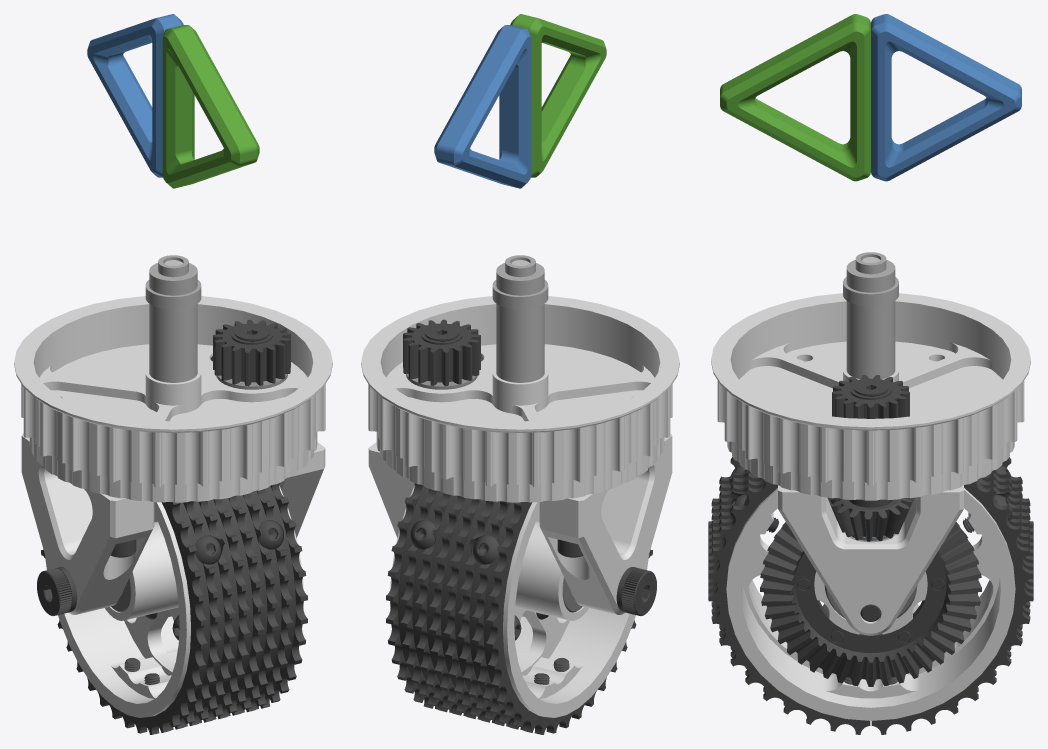
File: Robot_Swerve_0.glb
3 views of the same model, side by side, from view 1: azimuth 30°, elevation 25°; view 2: azimuth 150°, elevation 25°; view 3: azimuth 270°, elevation 25° (orthographic).
Visible parts, largest first — view 1: MK3 Base Pulley Tall, Tread, Blue Nitrile 4in X 1.5in, Wheel, SDS, Nitrile Tread, 4in X 1.5in, Bearing Bore, Wheel Mount A, Green, Blue, MK3 Center Column, Gear, 17T, 20DP, .375Hex, Wheel Mount B Gen2, Screw, Shoulder, .375 X 2.5, 5_16-18, 91259A634_91259A634, Screw, 10-32 X .5, Button, 97763A232_97763A232 (×2); view 2: MK3 Base Pulley Tall, Tread, Blue Nitrile 4in X 1.5in, Wheel, SDS, Nitrile Tread, 4in X 1.5in, Bearing Bore, Wheel Mount A, Blue, Green, MK3 Center Column, Gear, 17T, 20DP, .375Hex, Wheel Mount B Gen2, Screw, Shoulder, .375 X 2.5, 5_16-18, 91259A634_91259A634, Screw, 10-32 X .5, Button, 97763A232_97763A232 (×2); view 3: MK3 Base Pulley Tall, Wheel, SDS, Nitrile Tread, 4in X 1.5in, Bearing Bore, Bevel Gear, 4515, Tread, Blue Nitrile 4in X 1.5in, Wheel Mount B Gen2, Green, Blue, MK3 Center Column, Bevel Gear, 1545, Gear, 17T, 20DP, .375Hex.
Boxes of the visible parts, x1,y1,x2,y2 form: MK3 Base Pulley Tall: (14, 296, 332, 502); Tread, Blue Nitrile 4in X 1.5in: (41, 483, 307, 734); Wheel, SDS, Nitrile Tread, 4in X 1.5in, Bearing Bore: (45, 486, 303, 717); Wheel Mount A: (21, 433, 154, 614); Green: (162, 25, 259, 188); Blue: (87, 14, 183, 177); MK3 Center Column: (145, 255, 201, 382); Gear, 17T, 20DP, .375Hex: (213, 319, 290, 386); Wheel Mount B Gen2: (279, 442, 325, 538); Screw, Shoulder, .375 X 2.5, 5_16-18, 91259A634_91259A634: (37, 567, 77, 615); Screw, 10-32 X .5, Button, 97763A232_97763A232 (×2): (195, 520, 283, 564); MK3 Base Pulley Tall: (361, 296, 679, 502); Tread, Blue Nitrile 4in X 1.5in: (386, 483, 652, 734); Wheel, SDS, Nitrile Tread, 4in X 1.5in, Bearing Bore: (390, 486, 648, 717); Wheel Mount A: (539, 433, 672, 614); Blue: (434, 25, 531, 188); Green: (510, 14, 606, 177); MK3 Center Column: (492, 255, 548, 382); Gear, 17T, 20DP, .375Hex: (403, 319, 480, 386); Wheel Mount B Gen2: (368, 442, 414, 538); Screw, Shoulder, .375 X 2.5, 5_16-18, 91259A634_91259A634: (616, 567, 656, 615); Screw, 10-32 X .5, Button, 97763A232_97763A232 (×2): (410, 520, 498, 564); MK3 Base Pulley Tall: (711, 293, 1030, 500); Wheel, SDS, Nitrile Tread, 4in X 1.5in, Bearing Bore: (726, 488, 1015, 720); Bevel Gear, 4515: (760, 497, 981, 686); Tread, Blue Nitrile 4in X 1.5in: (708, 457, 1033, 734); Wheel Mount B Gen2: (778, 485, 963, 635); Green: (720, 14, 870, 181); Blue: (871, 14, 1021, 181); MK3 Center Column: (843, 252, 898, 379); Bevel Gear, 1545: (830, 498, 911, 541); Gear, 17T, 20DP, .375Hex: (832, 375, 909, 418).
Size of the model in its own units: 0.0984 by 0.2343 by 0.1001.
